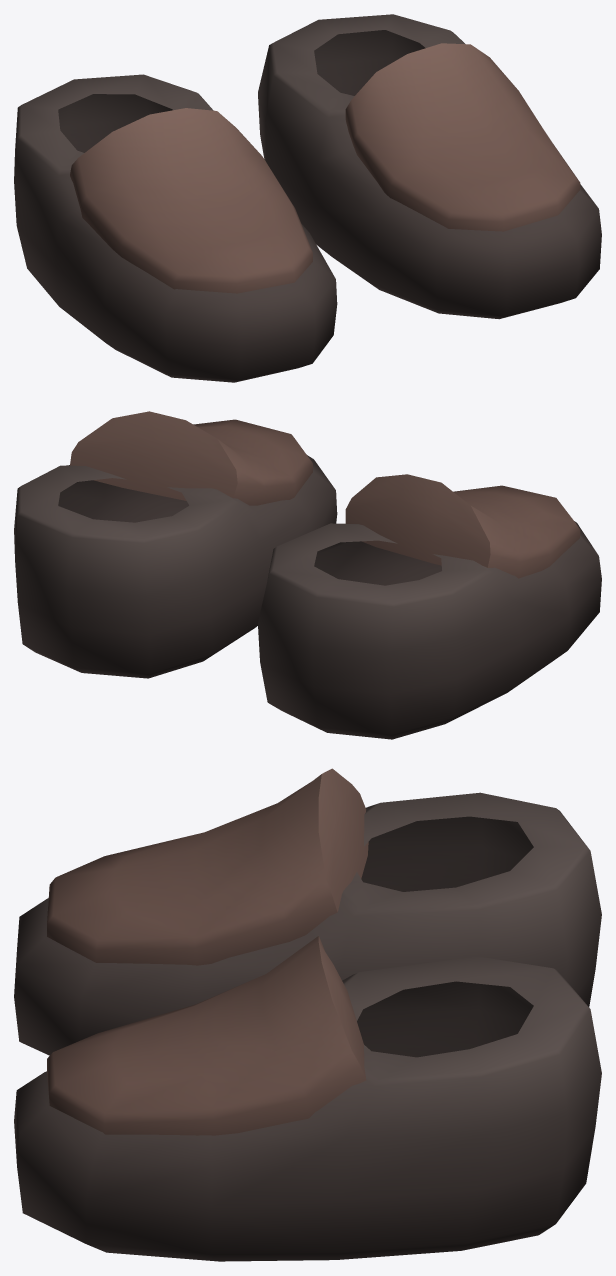
Rendered from Shoe_Sneakers_02.glb.
3 renders of one model, top to bottom at view 1: azimuth 30°, elevation 25°; view 2: azimuth 150°, elevation 25°; view 3: azimuth 270°, elevation 25°, orthographic. The views are drawn at different scales.
Parts seen in each view (by area): view 1: Shoe_Sneakers_02; view 2: Shoe_Sneakers_02; view 3: Shoe_Sneakers_02.
Part boxes in pixels (box(x1,y1,x2,y2)): Shoe_Sneakers_02: box(14, 14, 601, 382); Shoe_Sneakers_02: box(14, 411, 601, 739); Shoe_Sneakers_02: box(14, 768, 601, 1261).
Bounding box in the file's own units: 0.2491 × 0.0968 × 0.205.
1 material, 1 textured.
